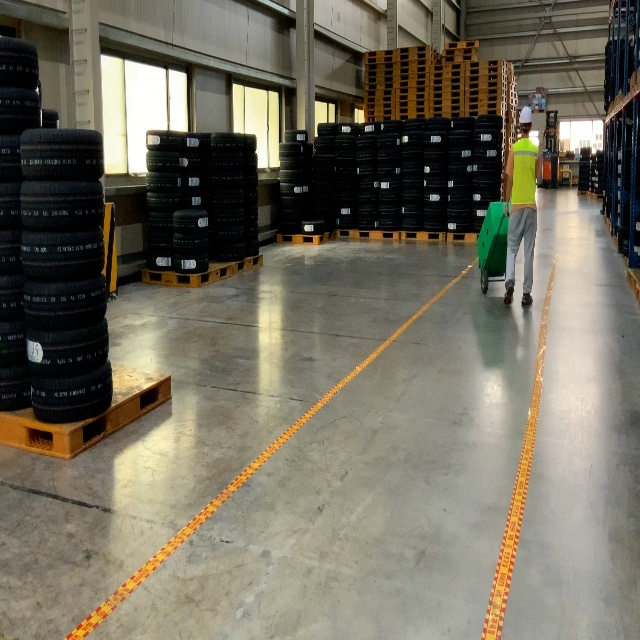Box: (483, 201, 512, 255), (477, 224, 506, 272)
Worker: (503, 105, 542, 306)
